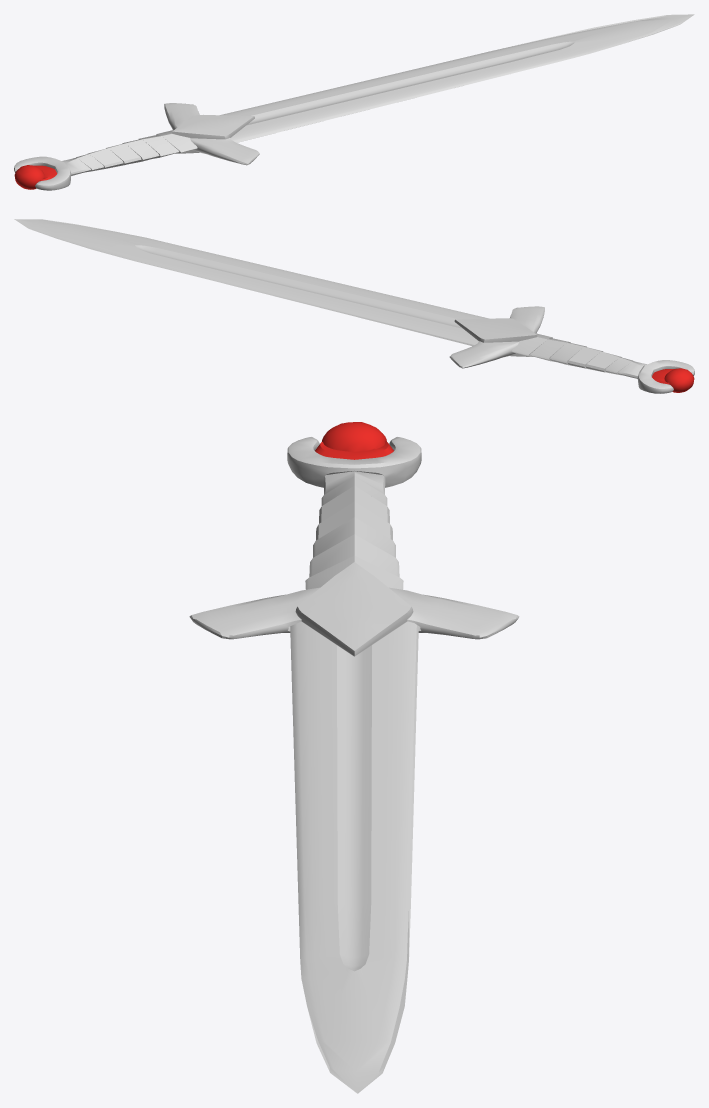
Rendered from SM_WulfasSoldier_ShortSword.fbx.
3 renders of one model, top to bottom at view 1: azimuth 30°, elevation 25°; view 2: azimuth 150°, elevation 25°; view 3: azimuth 270°, elevation 25°, orthographic. The views are drawn at different scales.
Parts seen in each view (by area): view 1: Cube.003; view 2: Cube.003; view 3: Cube.003.
Part boxes in pixels (bbox=[...]): Cube.003: bbox=[14, 14, 694, 190]; Cube.003: bbox=[14, 219, 694, 393]; Cube.003: bbox=[189, 422, 519, 1093].
Bounding box in the file's own units: 80.66 × 2.53 × 17.05.
